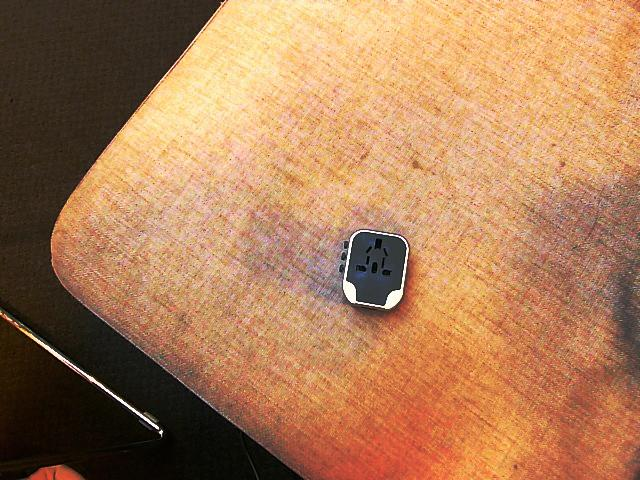adapter: (339, 228, 409, 310)
